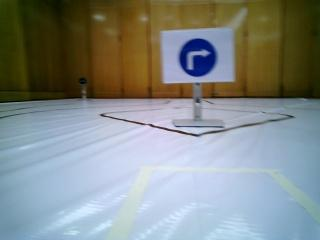right: (161, 31, 234, 83)
